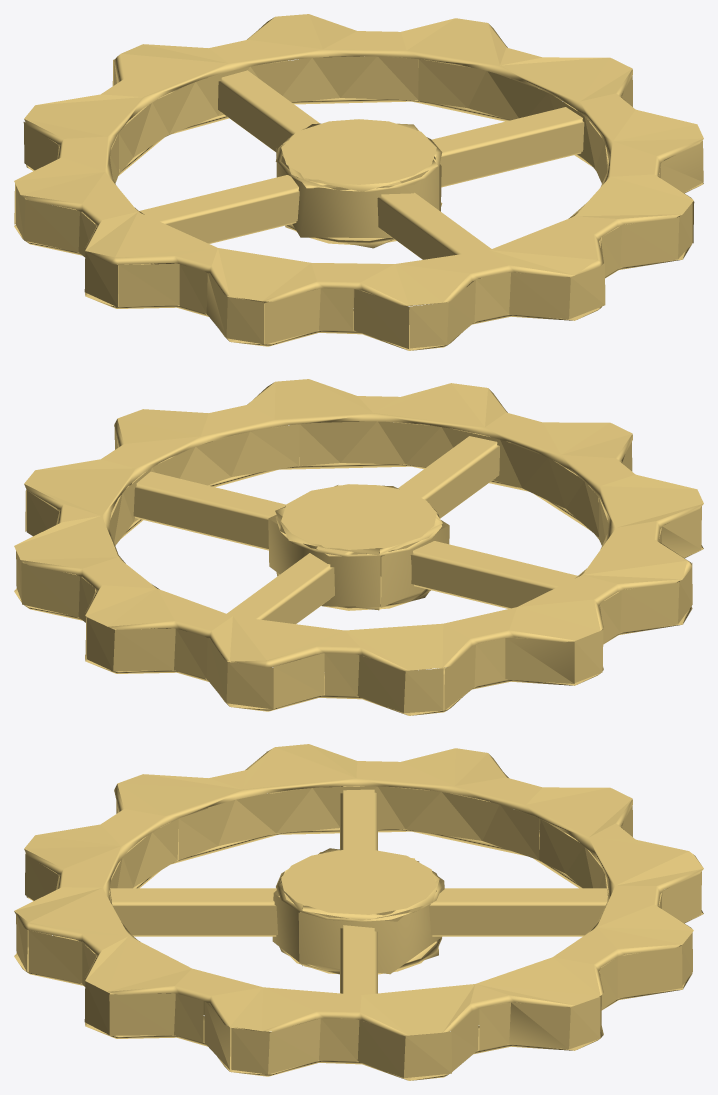
Rendered from boss_gear_medium.glb.
3 renders of one model, top to bottom at view 1: azimuth 30°, elevation 25°; view 2: azimuth 150°, elevation 25°; view 3: azimuth 270°, elevation 25°, orthographic.
Visible parts, largest first — view 1: GearMedium, GearMedium_Hub; view 2: GearMedium, GearMedium_Hub; view 3: GearMedium, GearMedium_Hub.
Part boxes in pixels (x1,y1,x2,y2): GearMedium: (14, 14, 703, 350); GearMedium_Hub: (275, 119, 442, 248); GearMedium: (14, 379, 703, 715); GearMedium_Hub: (268, 484, 449, 610); GearMedium: (14, 744, 703, 1080); GearMedium_Hub: (272, 848, 444, 974).
Size of the model in its own units: 3.88 by 0.3776 by 3.88.
